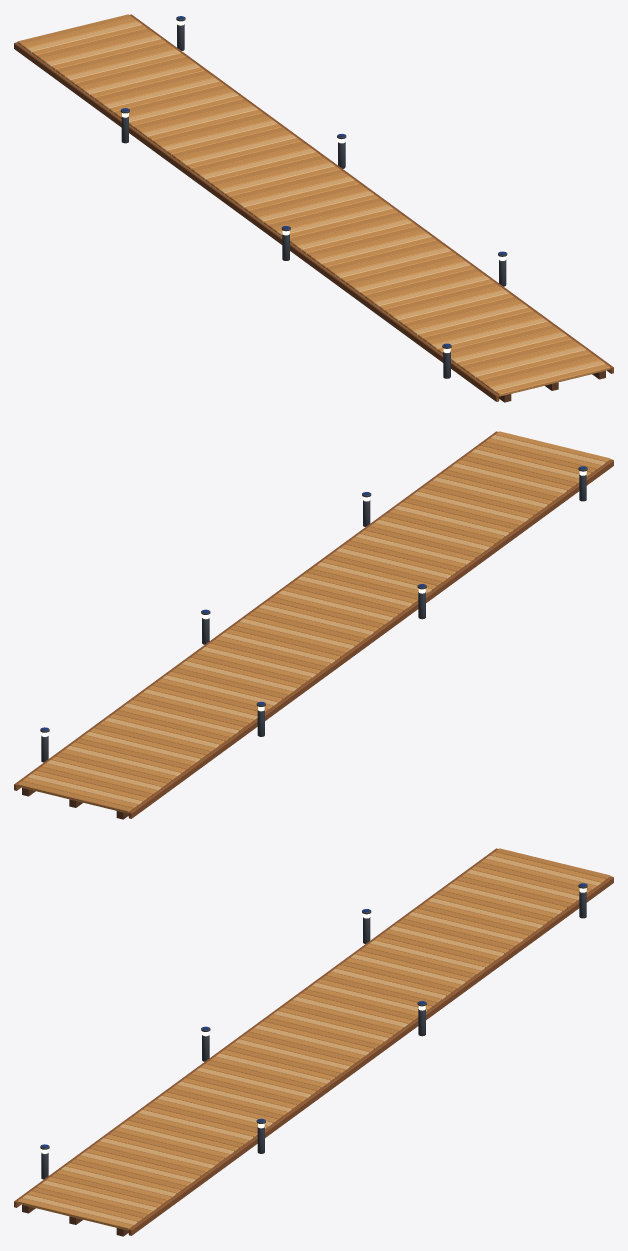
File: deque_madeira_praia.glb
3 renders of one model, top to bottom at view 1: azimuth 30°, elevation 25°; view 2: azimuth 150°, elevation 25°; view 3: azimuth 330°, elevation 25°, orthographic.
Parts seen in each view (by area): view 1: deque_madeira_praia; view 2: deque_madeira_praia; view 3: deque_madeira_praia.
Boxes of the visible parts, x1,y1,x2,y2 form: deque_madeira_praia: [14, 14, 613, 402]; deque_madeira_praia: [14, 431, 613, 819]; deque_madeira_praia: [14, 848, 613, 1236].
Size of the model in its own units: 2.58 by 0.558 by 15.
Materials: 2 (1 with a texture image).
